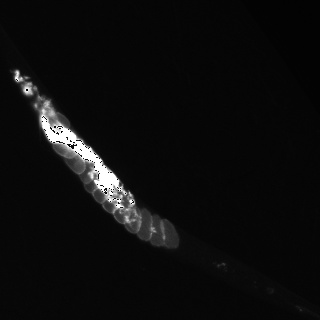embryo: (160, 219, 179, 248), (64, 149, 86, 174), (113, 195, 132, 223), (74, 160, 96, 184), (45, 112, 71, 132), (137, 209, 152, 241), (150, 214, 164, 246), (125, 206, 142, 232), (103, 188, 121, 212), (53, 141, 75, 158), (84, 174, 99, 194), (93, 186, 109, 202)
